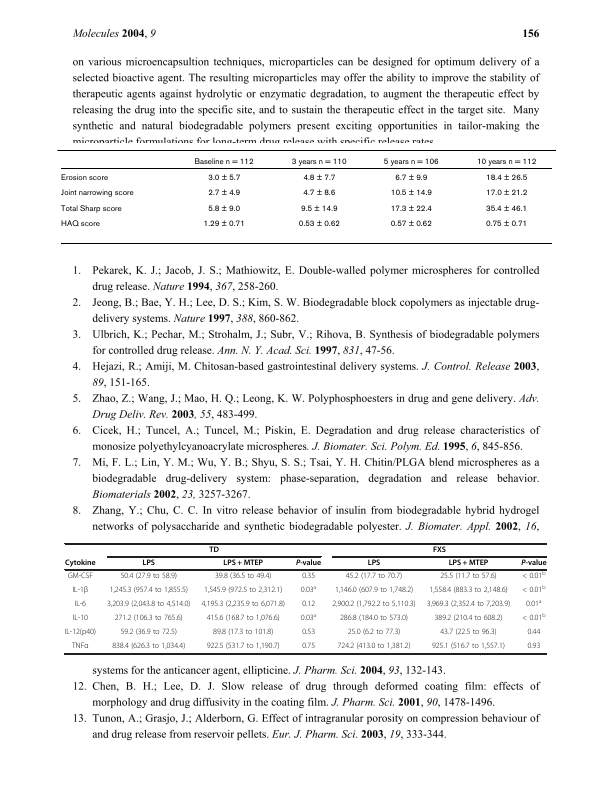borderless: (63, 542, 546, 653), (56, 148, 552, 243)
cell: (200, 600, 286, 610), (331, 600, 417, 610), (106, 600, 191, 610), (426, 600, 511, 610), (109, 586, 189, 596), (203, 586, 283, 596), (334, 586, 414, 596), (428, 586, 508, 596), (206, 614, 281, 624), (111, 642, 186, 652), (206, 642, 281, 652), (336, 642, 411, 652), (431, 642, 506, 652), (59, 189, 134, 199), (114, 614, 184, 624), (339, 614, 409, 624), (433, 614, 503, 624), (59, 204, 122, 214), (212, 628, 274, 638), (475, 157, 537, 167), (193, 157, 254, 167), (119, 572, 178, 582), (439, 572, 498, 582), (119, 628, 178, 638), (439, 628, 498, 638), (214, 572, 272, 582), (345, 572, 403, 582), (290, 157, 347, 167), (382, 157, 439, 167), (347, 628, 401, 638), (59, 173, 108, 183), (484, 173, 528, 183), (484, 189, 528, 199), (484, 204, 528, 214), (484, 220, 528, 230), (389, 189, 432, 199), (389, 204, 432, 214), (202, 220, 245, 230), (297, 220, 340, 230), (389, 220, 432, 230), (222, 559, 264, 569), (448, 559, 489, 569), (59, 220, 100, 230), (299, 204, 338, 214), (207, 173, 241, 183), (302, 173, 336, 183), (394, 173, 428, 183), (207, 189, 241, 199), (302, 189, 336, 199), (207, 204, 241, 214), (64, 628, 97, 638), (64, 559, 96, 569), (521, 571, 546, 582), (521, 585, 546, 596), (521, 613, 546, 624), (295, 559, 322, 569), (520, 559, 547, 569), (67, 572, 94, 582), (300, 585, 317, 596), (525, 599, 542, 610), (300, 613, 317, 624), (71, 586, 89, 596), (71, 642, 89, 652), (72, 614, 89, 624), (141, 559, 156, 569), (301, 572, 316, 582), (301, 600, 316, 610), (301, 628, 316, 638), (526, 628, 541, 638), (301, 642, 316, 652), (526, 642, 541, 652), (367, 559, 381, 569), (73, 600, 87, 610), (432, 546, 447, 555), (208, 546, 220, 555)
